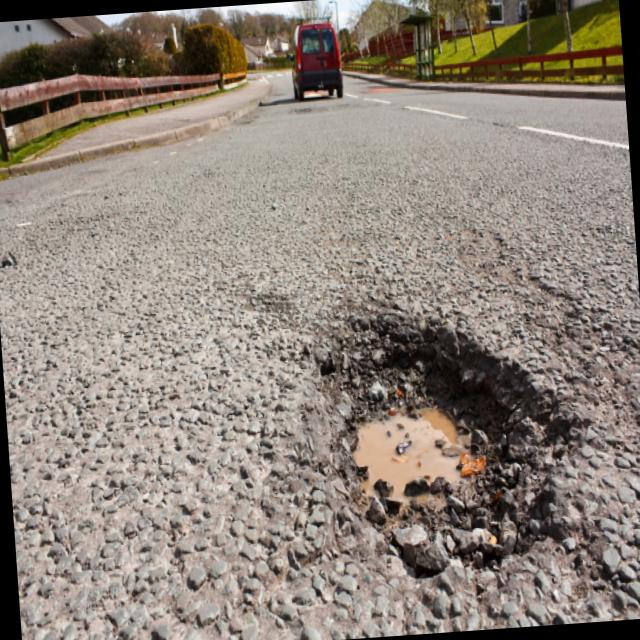Potholes: (303, 274, 568, 599)
